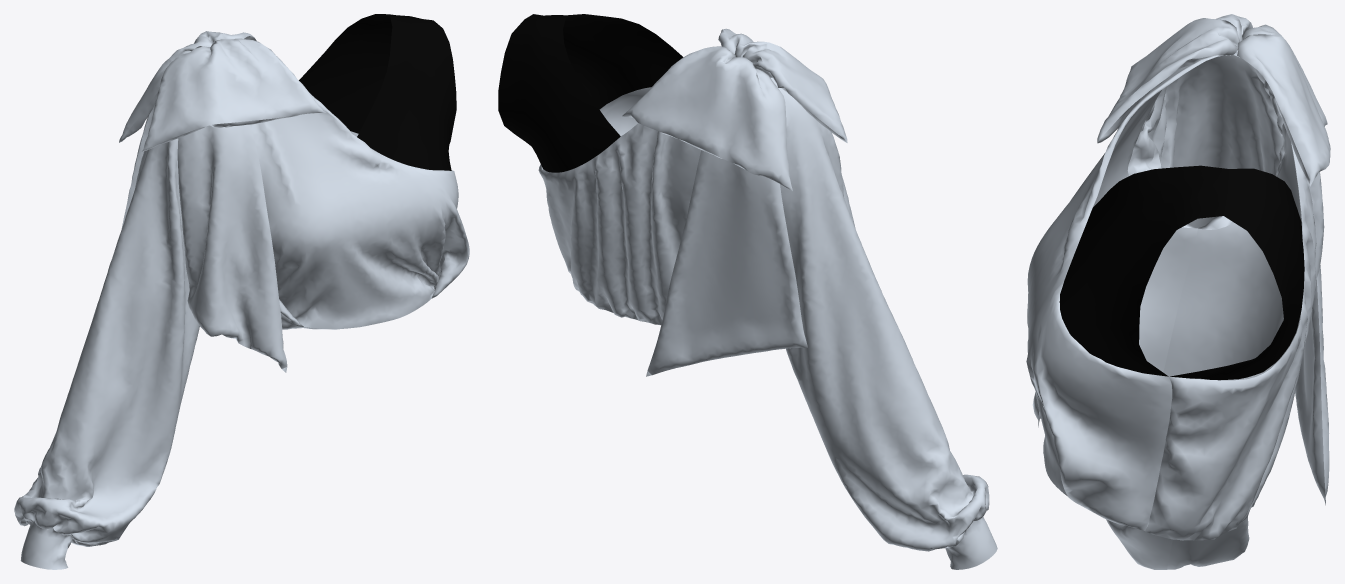
File: off shoulder blouse_gltf_thin.glb
The picture shows the model from 3 angles, left to right: view 1: azimuth 30°, elevation 25°; view 2: azimuth 150°, elevation 25°; view 3: azimuth 270°, elevation 25°; orthographic projection. The views are drawn at different scales.
Visible parts, largest first — view 1: Cloth (×8); view 2: Cloth (×9); view 3: Cloth (×12).
Part boxes in pixels (x1,y1,x2,y2): Cloth (×8): [14, 14, 469, 569]; Cloth (×9): [498, 14, 997, 569]; Cloth (×12): [1026, 14, 1330, 569].
Bounding box in the file's own units: 57.6 × 59.48 × 24.58.
1 material, 1 textured.
